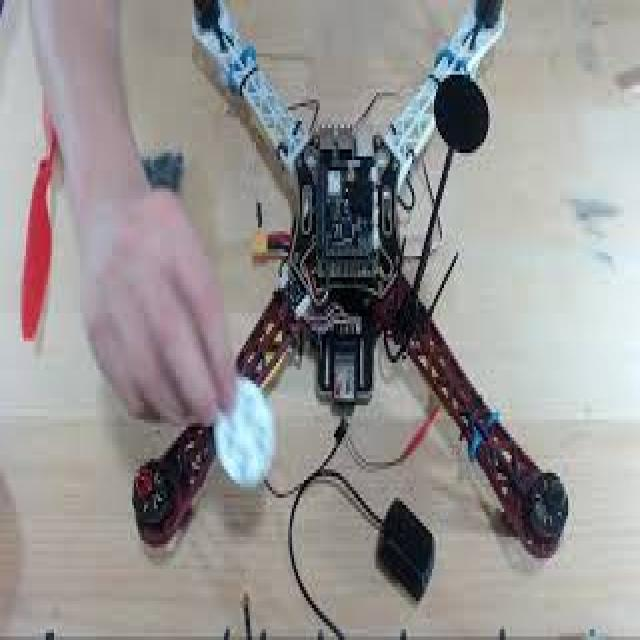drone: (88, 7, 600, 571)
